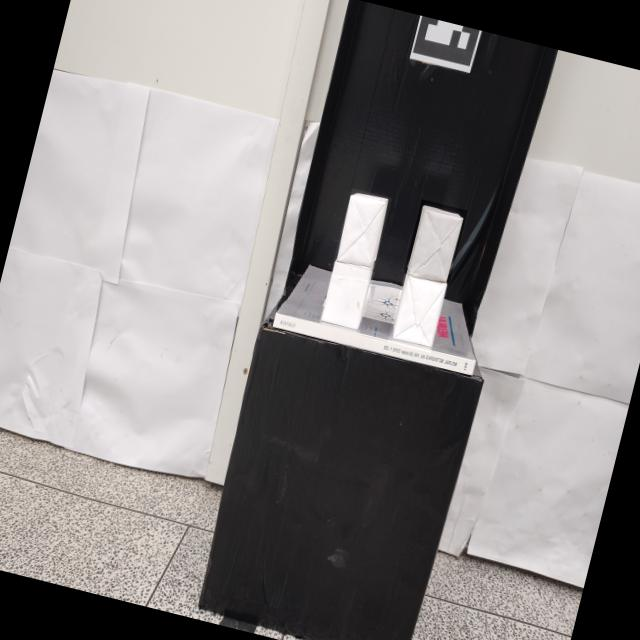bale: (403, 200, 467, 284), (332, 188, 392, 270), (387, 274, 448, 353), (318, 262, 374, 332)
